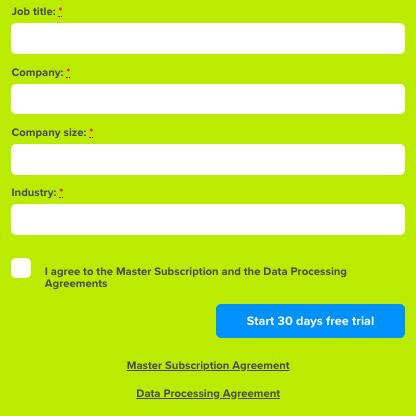button: (213, 302, 407, 340)
checkbox: (8, 256, 35, 281)
checkbox_with_label: (5, 253, 350, 289)
field: (10, 21, 408, 57), (10, 141, 408, 177), (8, 81, 407, 116), (10, 202, 406, 237)
